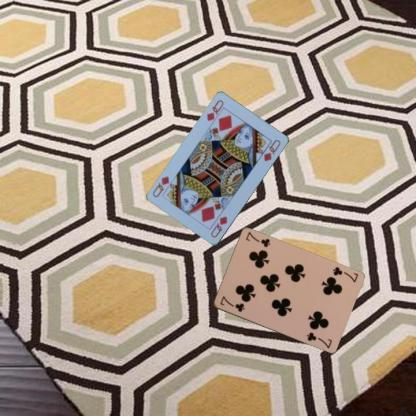7c: (330, 264, 359, 284), (217, 294, 246, 313)
Qd: (204, 98, 225, 127), (208, 214, 229, 239)
